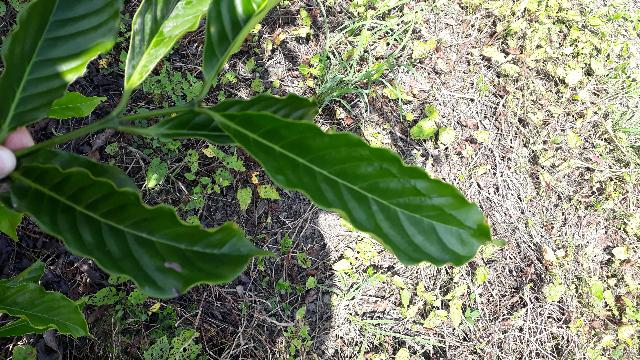rust_level_1: (136, 94, 423, 247)
